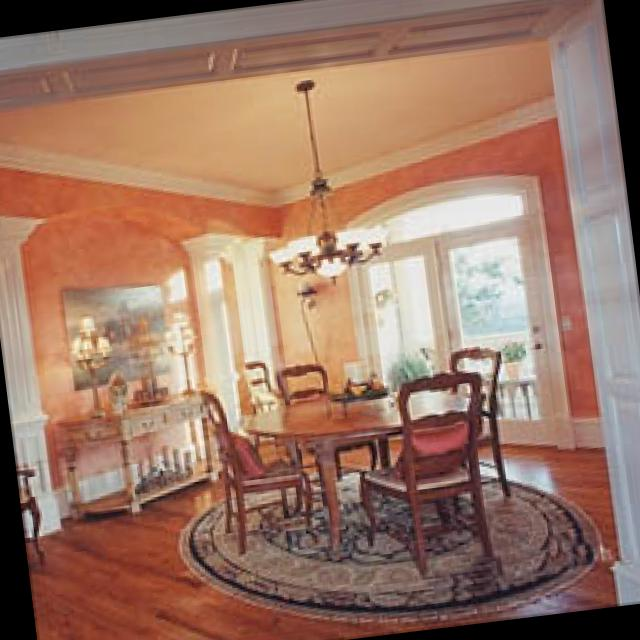2001: (388, 188, 521, 240)
2004: (353, 170, 573, 436)
candles: (126, 440, 192, 487)
ceiling beam: (0, 38, 554, 204), (0, 43, 556, 187)
ceiling lamps: (274, 72, 390, 274)
chair: (203, 387, 321, 551), (450, 343, 498, 387), (281, 358, 329, 399)
chair -occluded-: (364, 368, 497, 565)
door bars: (438, 221, 554, 440), (361, 246, 448, 395)
door handle: (199, 254, 272, 412)
lamp crop: (71, 309, 117, 408), (163, 299, 200, 393), (300, 277, 321, 315)
painting crop: (64, 282, 175, 388)
pillow occluded: (412, 420, 472, 471)
plant -x: (501, 333, 527, 373)
rug -partially obscured-: (189, 460, 596, 620)
side: (64, 389, 212, 519)
table -X: (245, 385, 475, 545)
vase -X: (112, 373, 134, 403)
wall outlets: (563, 304, 575, 330)
